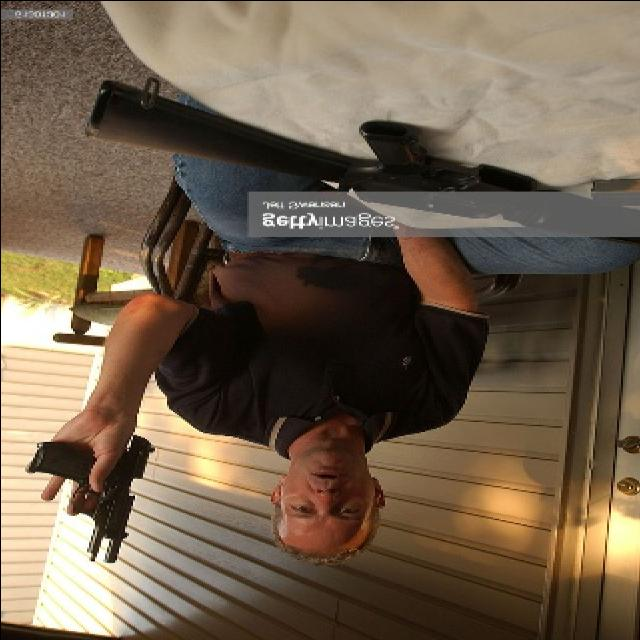handgun: (25, 438, 153, 573)
rifle: (69, 79, 639, 250)
